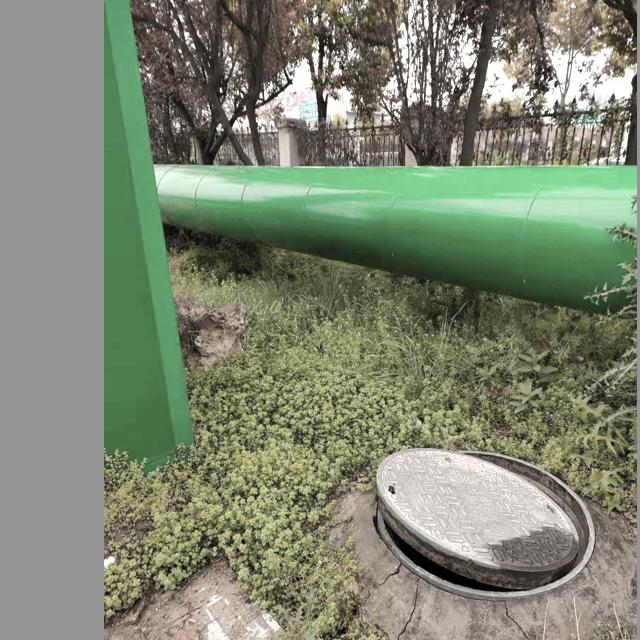uncovered: (373, 445, 596, 597)
